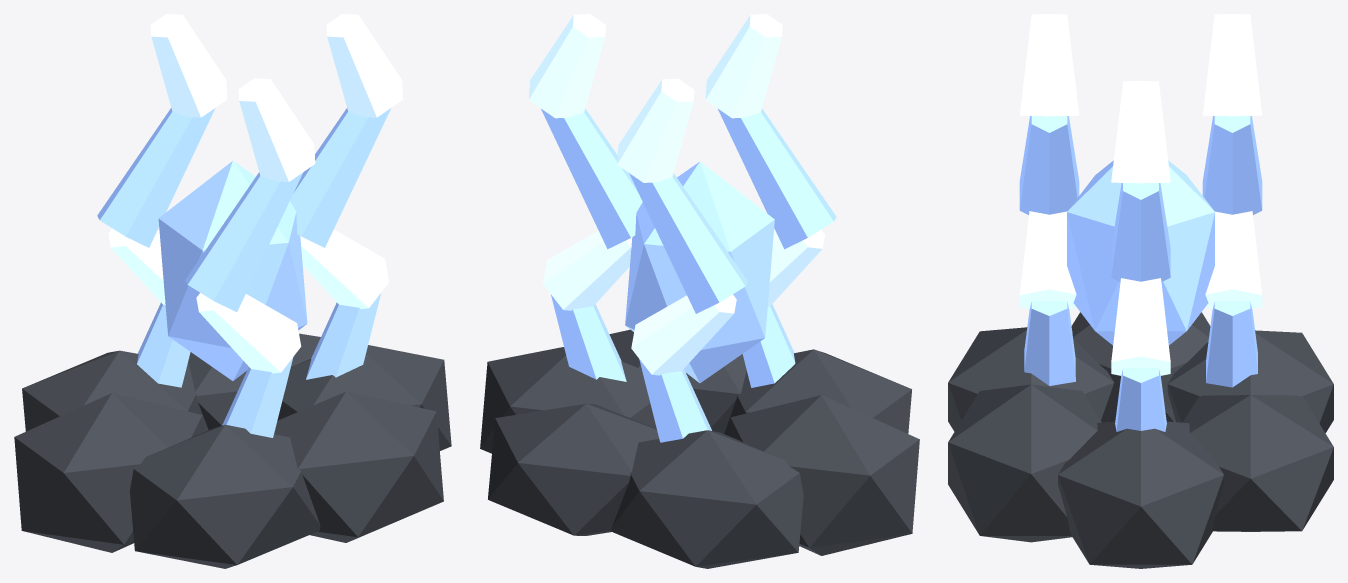
Rendered from storm_crystal_node.fbx.
The picture shows the model from 3 angles, left to right: view 1: azimuth 30°, elevation 25°; view 2: azimuth 150°, elevation 25°; view 3: azimuth 270°, elevation 25°; orthographic projection. The views are drawn at different scales.
Visible parts, largest first — view 1: Storm_Bedrock.002, Storm_Crystal.002, Storm_Glow.002; view 2: Storm_Bedrock.002, Storm_Crystal.002, Storm_Glow.002; view 3: Storm_Bedrock.002, Storm_Crystal.002, Storm_Glow.002.
Boxes of the visible parts, box(x1,y1,x2,y2) form: Storm_Bedrock.002: box(14, 333, 451, 568); Storm_Crystal.002: box(97, 108, 390, 437); Storm_Glow.002: box(108, 14, 403, 373); Storm_Bedrock.002: box(480, 329, 919, 568); Storm_Crystal.002: box(541, 108, 836, 442); Storm_Glow.002: box(528, 14, 824, 375); Storm_Bedrock.002: box(948, 312, 1333, 568); Storm_Crystal.002: box(1019, 116, 1262, 431); Storm_Glow.002: box(1019, 14, 1262, 375).
Size of the model in its own units: 192 by 208 by 146.
